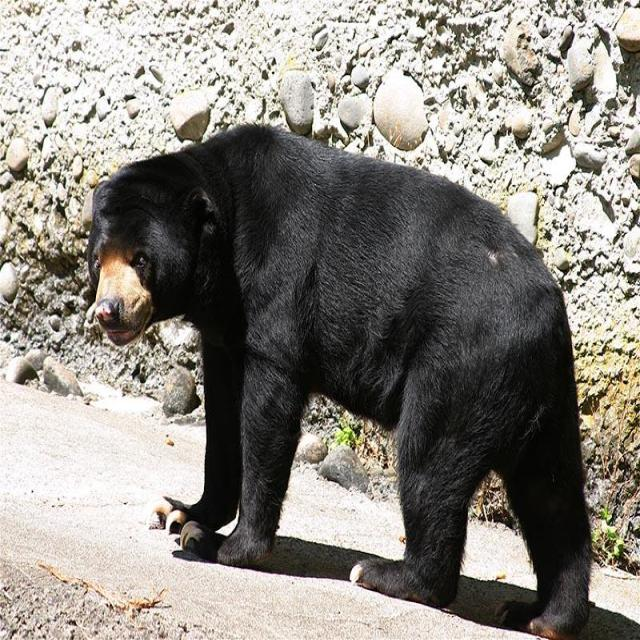Bear: (87, 124, 594, 640)
